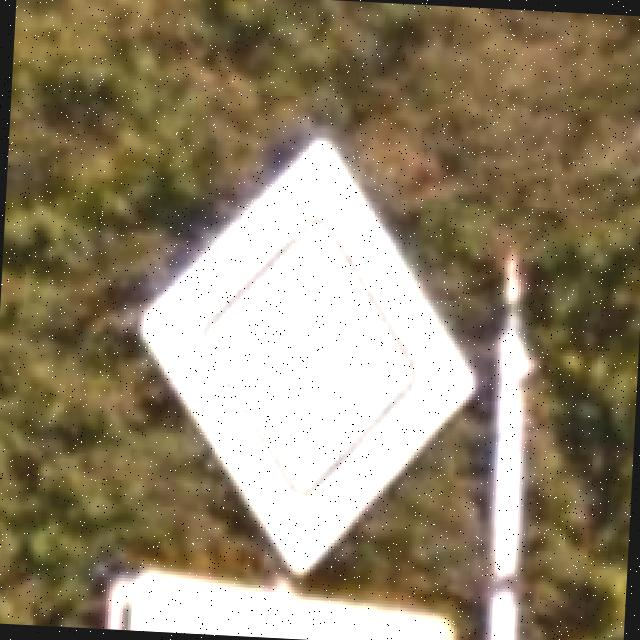Droga z pierwszenstwem: (122, 122, 492, 584)
